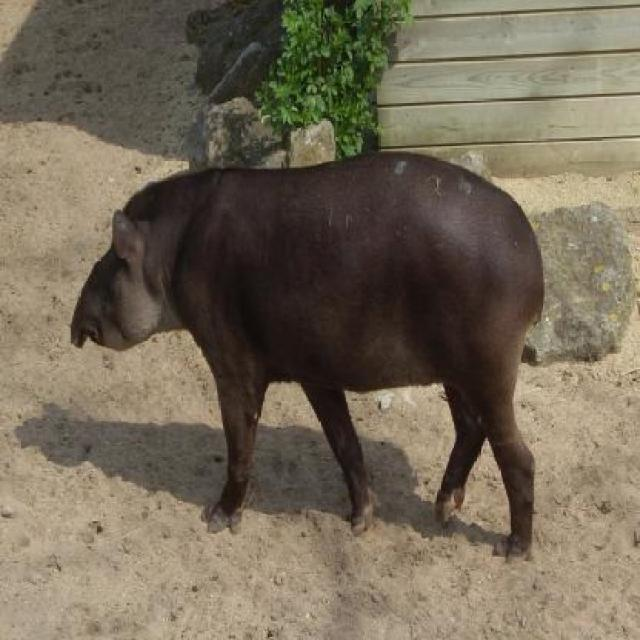pig: (71, 151, 546, 564)
